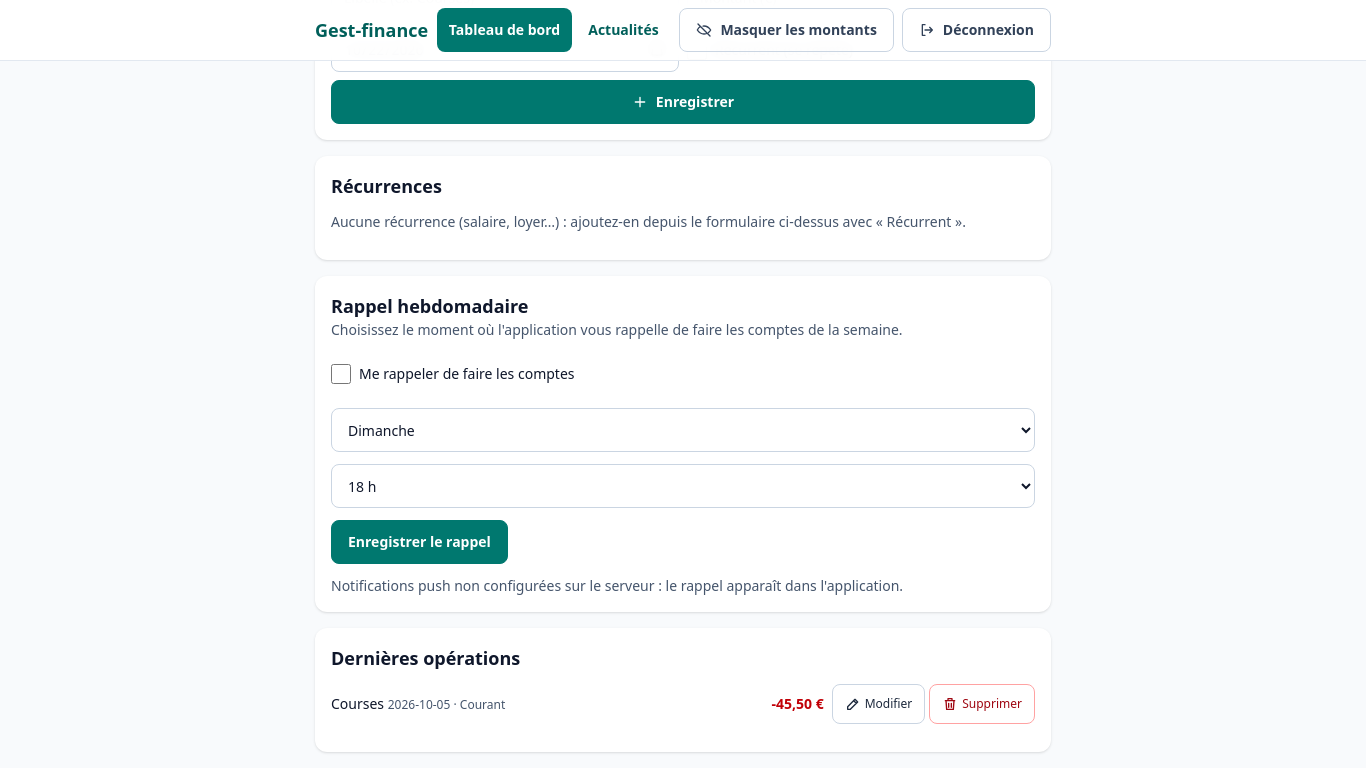
Test: gestion des erreurs et ergonomie › affiche une notification claire quand une action échoue (au lieu d'échouer en silence)
The width and height of the screenshot is (1366, 768).
(page scrolled)
Click the button with aria-label "Supprimer Courses" at point(982, 704), box [929,684,1035,724]
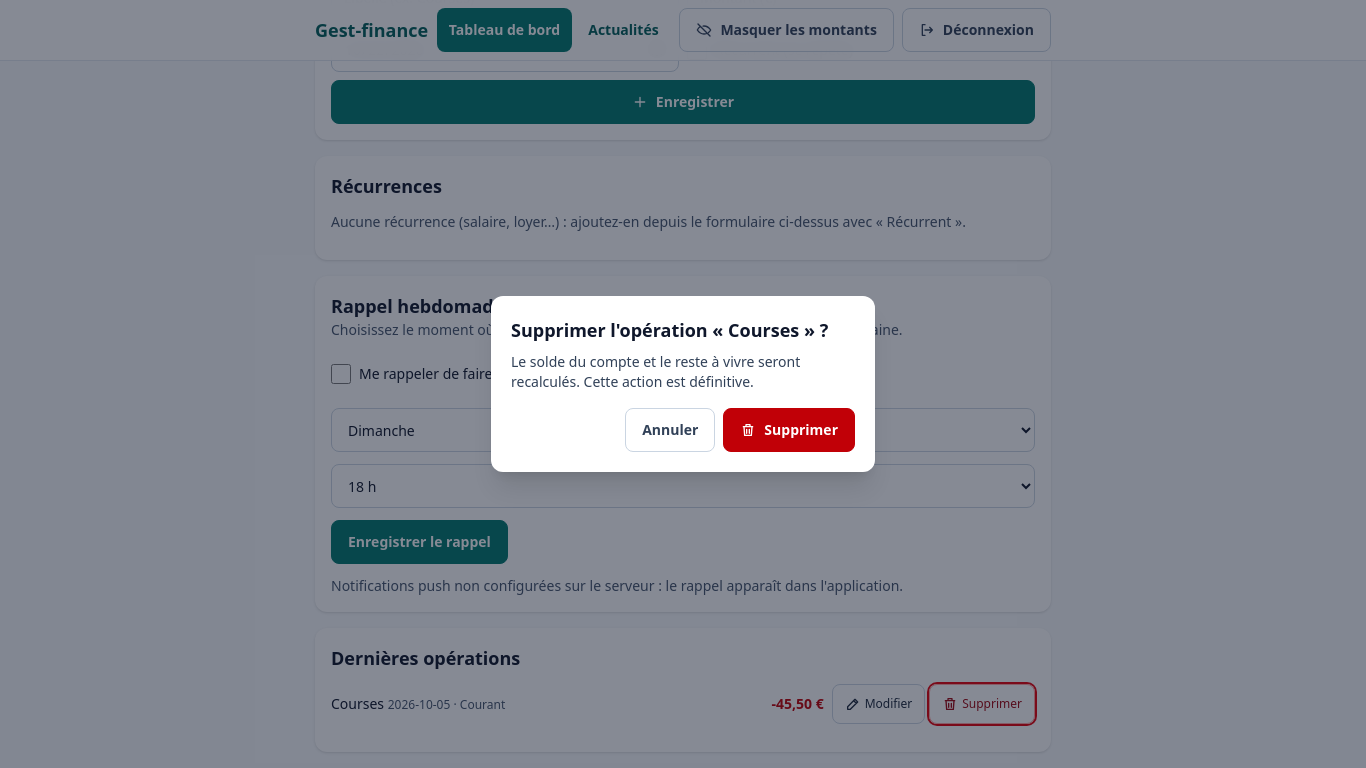
Click the button "Supprimer" at point(789, 430), box [723,408,855,452]
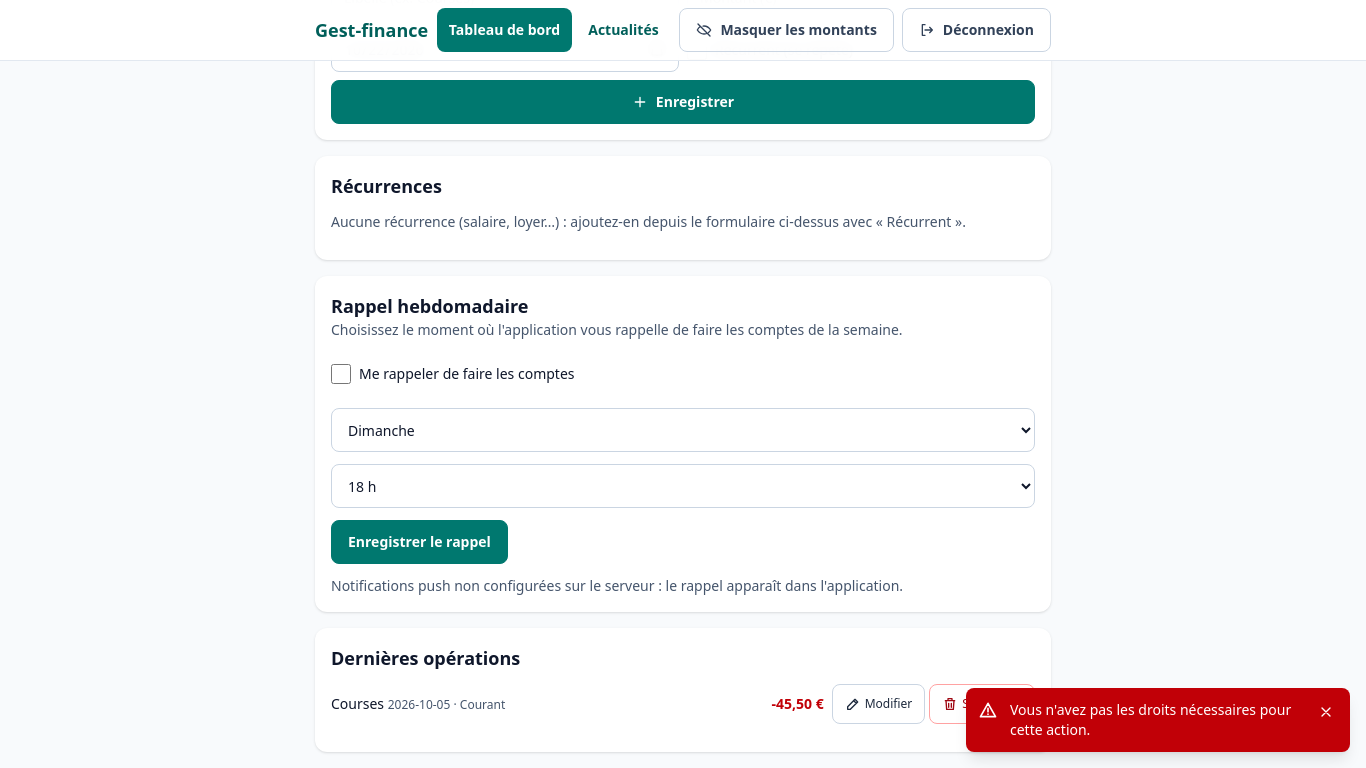
Expected: the message reads "Vous n'avez pas les droits nécessaires pour cette action.", [1010,700,1291,739]
